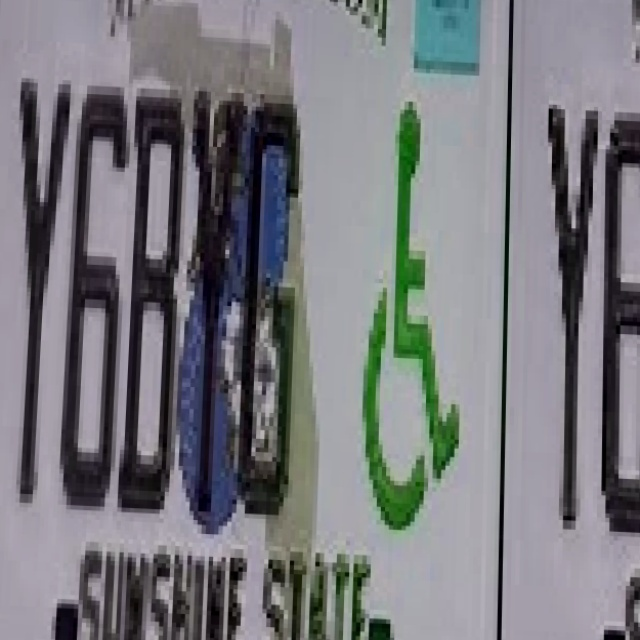ISA: (358, 98, 468, 534)
